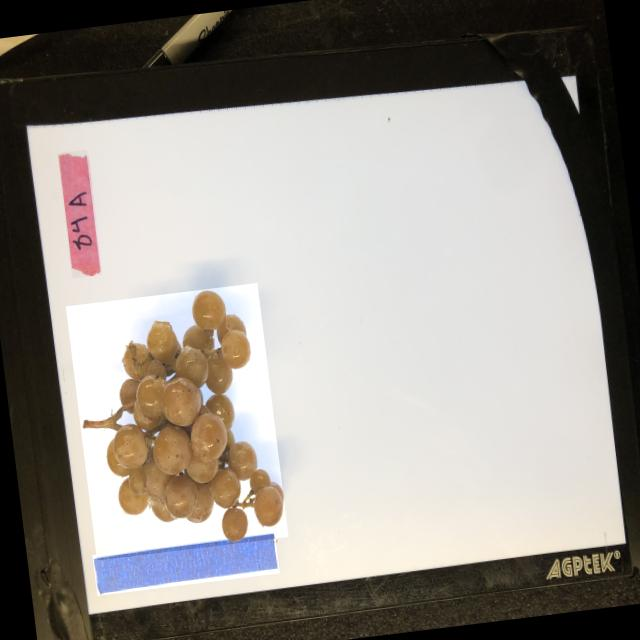grape_cluster: (65, 281, 288, 559)
index: (57, 148, 102, 276)
measure_label: (92, 531, 280, 594)
